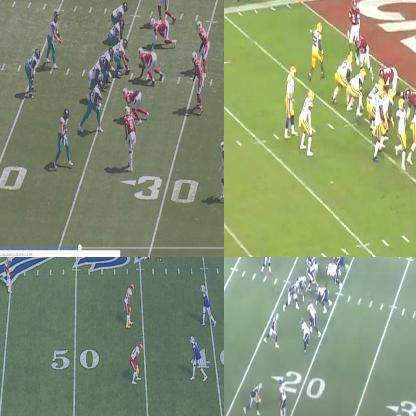CENTER: (366, 80, 384, 110), (115, 38, 127, 64), (307, 264, 319, 283)
DB: (124, 106, 135, 170), (130, 343, 144, 384), (347, 0, 361, 36), (126, 283, 136, 326), (5, 257, 14, 296), (279, 379, 287, 415), (302, 318, 310, 351)
LB: (191, 50, 203, 116), (196, 19, 210, 69), (307, 301, 321, 335), (154, 0, 171, 20)
QB: (284, 64, 298, 140), (46, 12, 63, 69), (264, 257, 272, 272)
SKILL: (299, 90, 315, 158), (308, 20, 326, 78), (89, 78, 103, 137), (190, 336, 206, 381), (59, 109, 72, 163), (398, 98, 407, 169), (27, 51, 40, 97), (200, 283, 212, 326), (247, 382, 262, 415), (270, 314, 279, 347)
